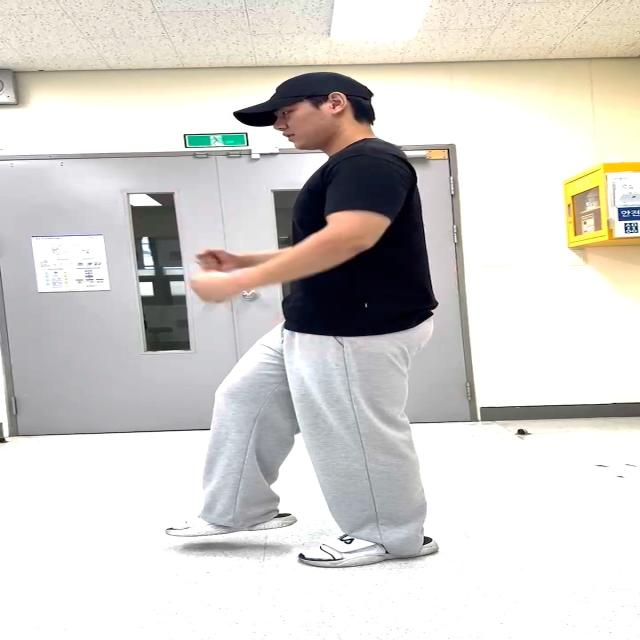leg: (177, 343, 293, 531)
